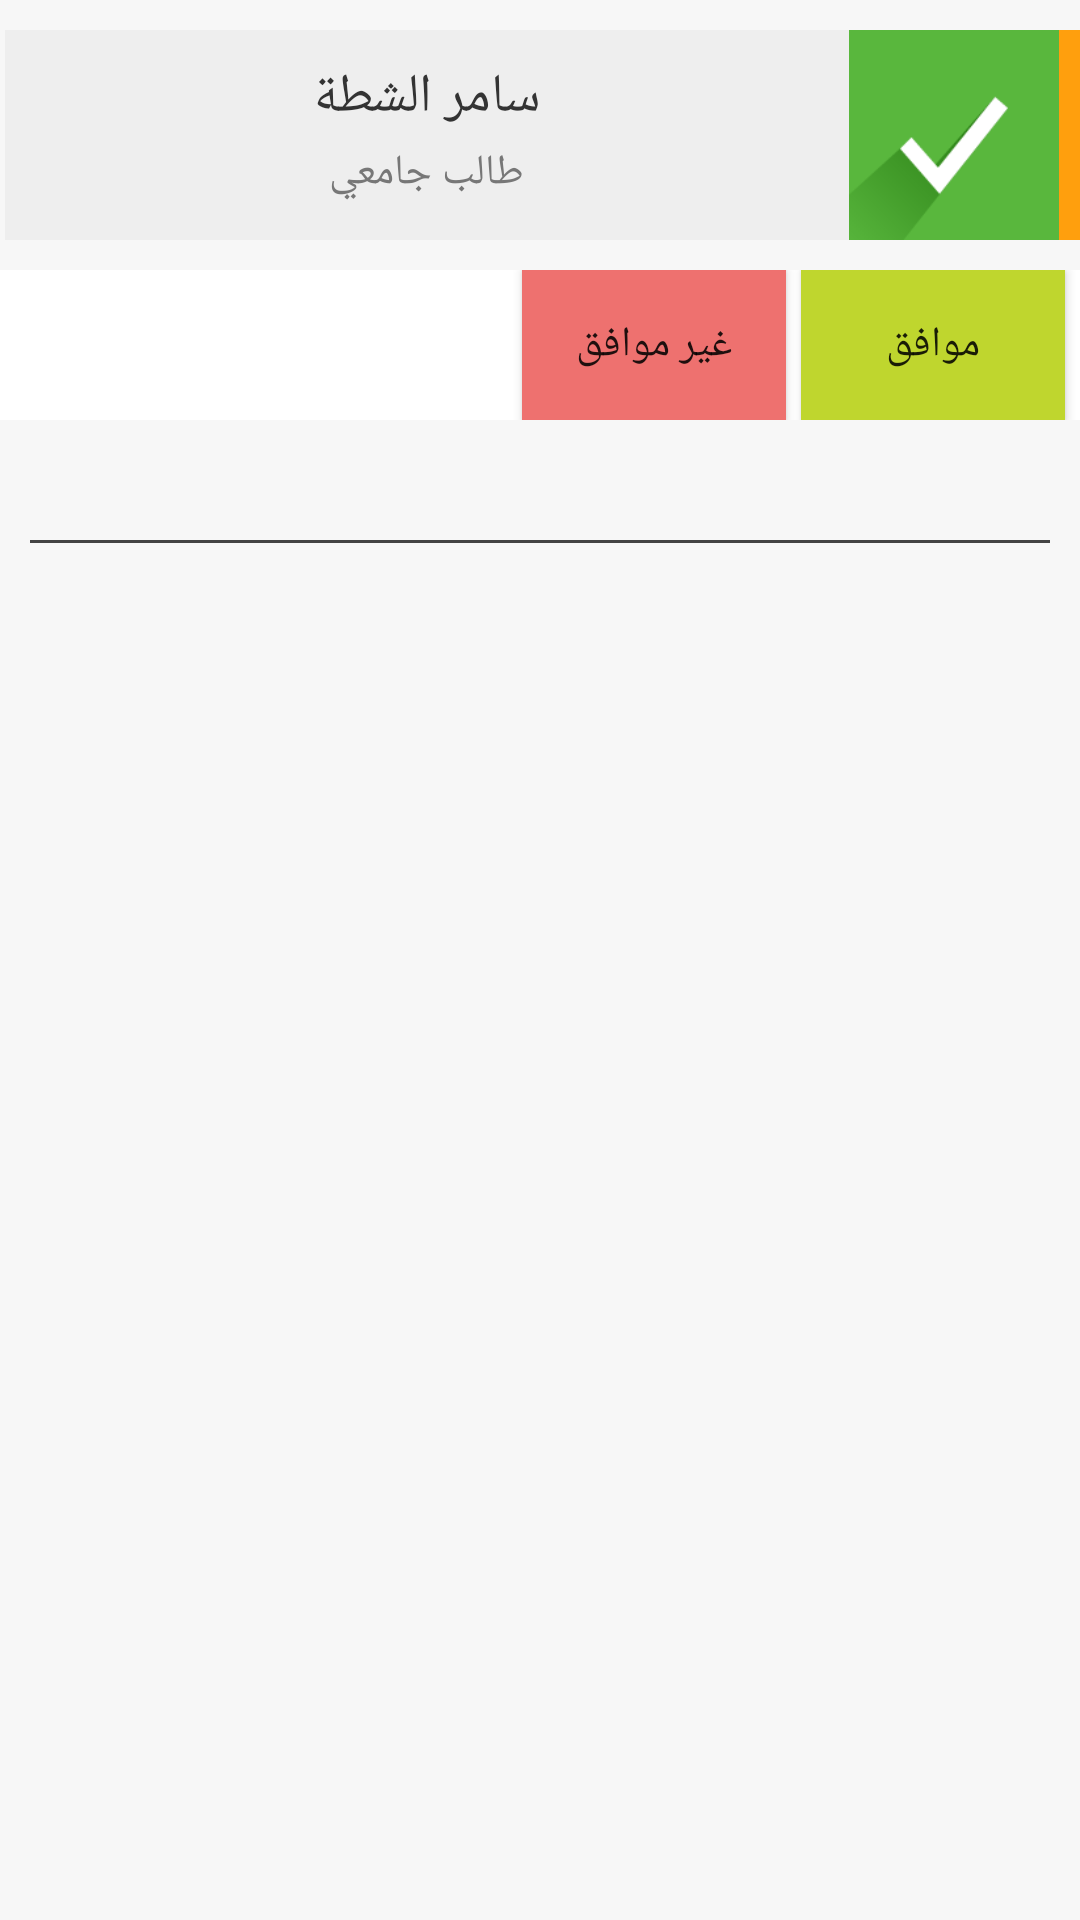

Where to tap for icons on this 1080w x 1920h app screen, as (x,y):
check: (954,135)
